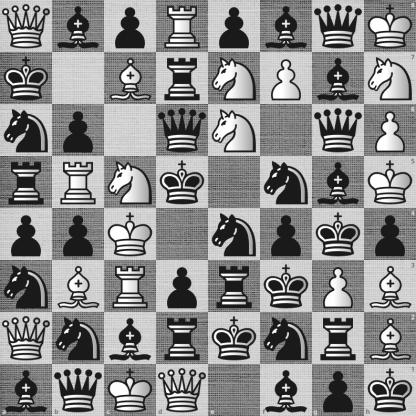B: (364, 260, 416, 312), (364, 312, 416, 364), (53, 261, 104, 312), (105, 53, 156, 104)
K: (364, 156, 416, 209), (104, 364, 156, 416), (364, 0, 416, 52), (105, 209, 156, 260)
N: (364, 52, 416, 104), (105, 157, 156, 208), (209, 53, 260, 104), (209, 105, 260, 156)
P: (364, 104, 416, 156), (261, 53, 312, 104), (313, 261, 364, 312)
Q: (156, 364, 209, 416), (1, 1, 52, 52), (1, 313, 52, 364)
R: (53, 157, 104, 208), (105, 261, 156, 312), (157, 1, 208, 52)
b: (0, 364, 52, 416), (260, 364, 312, 416), (53, 1, 104, 52), (105, 313, 156, 364), (261, 1, 312, 52), (313, 53, 364, 104), (313, 157, 364, 208)
board: (0, 0, 415, 415)
k: (364, 364, 416, 416), (1, 53, 52, 104), (157, 157, 208, 208), (209, 313, 260, 364), (261, 261, 312, 312), (313, 209, 364, 260)
n: (1, 105, 52, 156), (1, 261, 52, 312), (53, 313, 104, 364), (209, 209, 260, 260), (261, 157, 312, 208), (261, 313, 312, 364)
p: (312, 364, 364, 416), (364, 209, 416, 260), (1, 209, 52, 260), (53, 105, 104, 156), (53, 209, 104, 260), (105, 1, 156, 52), (157, 261, 208, 312), (209, 1, 260, 52), (261, 209, 312, 260)
q: (52, 364, 104, 416), (157, 105, 208, 156), (313, 1, 364, 52), (313, 105, 364, 156)
r: (1, 157, 52, 208), (157, 53, 208, 104), (157, 313, 208, 364), (209, 261, 260, 312), (313, 313, 364, 364)
